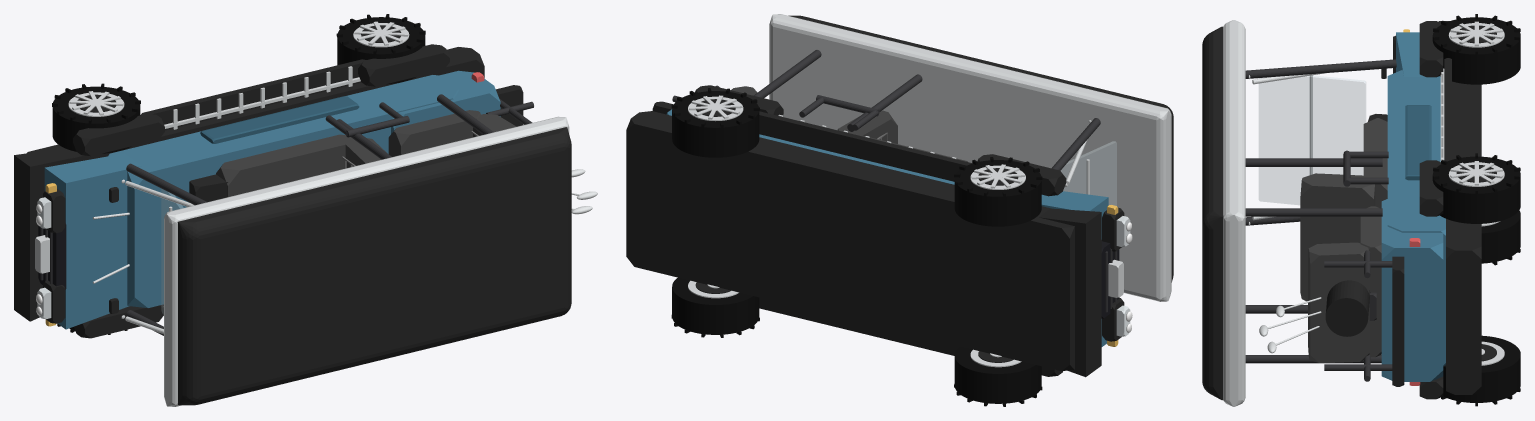
The model's file is GolfCart.glb.
3 renders of one model, left to right at view 1: azimuth 30°, elevation 25°; view 2: azimuth 150°, elevation 25°; view 3: azimuth 270°, elevation 25°, orthographic.
Parts seen in each view (by area): view 1: compact_beveled_roof_canopy, smooth_blue_passenger_tub, sloped_front_blue_cowl, roof_lower_silver_trim, black_lower_front_valance, front_seat_cushion_rounded, one_piece_lower_black_chassis, right_black_running_board, right_recessed_blue_side_insert, front_right_tire, rear_reverse_seat_cushion_rounded, rear_right_compact_fender (+15 smaller); view 2: one_piece_lower_black_chassis, roof_lower_silver_trim, black_lower_front_valance, right_black_running_board, rear_right_tire, front_right_tire, front_left_tire, rear_left_tire, left_black_running_board, smoked_front_windshield, compact_beveled_roof_canopy, sloped_front_blue_cowl (+11 smaller); view 3: smoked_front_windshield, roof_lower_silver_trim, one_piece_lower_black_chassis, rear_blue_body_pod, compact_beveled_roof_canopy, smooth_blue_passenger_tub, rear_reverse_back_rounded, front_seat_back_rounded, rear_right_tire, front_right_tire, rear_left_tire, black_golf_bag_body (+24 smaller).
Part boxes in pixels (box(x1,y1,x2,y2)): compact_beveled_roof_canopy: box(177, 127, 571, 405); smooth_blue_passenger_tub: box(108, 75, 458, 307); sloped_front_blue_cowl: box(44, 153, 141, 329); roof_lower_silver_trim: box(164, 116, 569, 406); black_lower_front_valance: box(14, 149, 73, 321); front_seat_cushion_rounded: box(216, 134, 350, 197); one_piece_lower_black_chassis: box(27, 47, 484, 162); right_black_running_board: box(140, 59, 366, 130); right_recessed_blue_side_insert: box(200, 96, 359, 143); front_right_tire: box(52, 86, 140, 153); rear_reverse_seat_cushion_rounded: box(388, 110, 480, 156); rear_right_compact_fender: box(358, 44, 449, 86); one_piece_lower_black_chassis: box(626, 111, 1074, 371); roof_lower_silver_trim: box(769, 14, 1171, 301); black_lower_front_valance: box(1038, 208, 1101, 377); right_black_running_board: box(759, 111, 972, 181); rear_right_tire: box(672, 91, 759, 157); front_right_tire: box(954, 160, 1041, 226); front_left_tire: box(954, 346, 1041, 403); rear_left_tire: box(672, 277, 759, 334); left_black_running_board: box(759, 297, 959, 355); smoked_front_windshield: box(1061, 141, 1116, 205); compact_beveled_roof_canopy: box(788, 15, 1173, 282); sloped_front_blue_cowl: box(1041, 191, 1108, 346); smoked_front_windshield: box(1259, 75, 1365, 204); roof_lower_silver_trim: box(1223, 20, 1245, 406); one_piece_lower_black_chassis: box(1446, 81, 1481, 394); rear_blue_body_pod: box(1381, 199, 1443, 381); compact_beveled_roof_canopy: box(1202, 26, 1223, 400); smooth_blue_passenger_tub: box(1387, 70, 1445, 366); rear_reverse_back_rounded: box(1308, 242, 1369, 363); front_seat_back_rounded: box(1300, 173, 1375, 301); rear_right_tire: box(1432, 156, 1520, 223); front_right_tire: box(1432, 17, 1520, 84); rear_left_tire: box(1443, 335, 1520, 402); black_golf_bag_body: box(1325, 280, 1370, 336).
Bounding box in the file's own units: 4.78 × 2 × 2.68.
